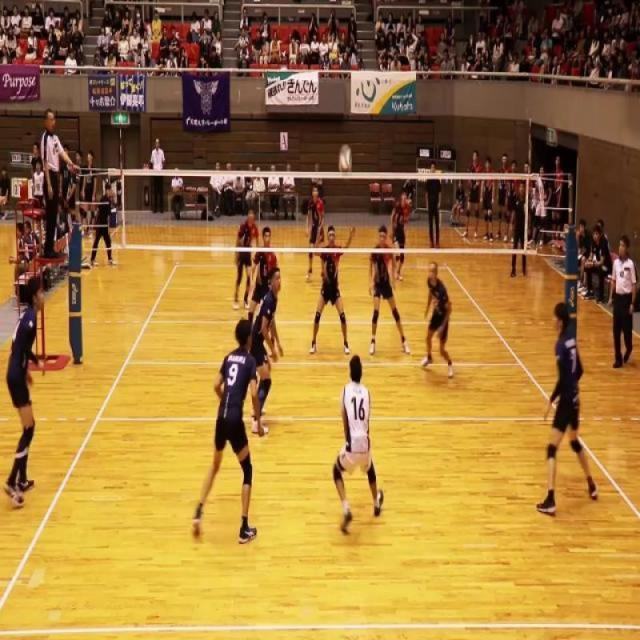volleyball: (338, 141, 353, 178)
